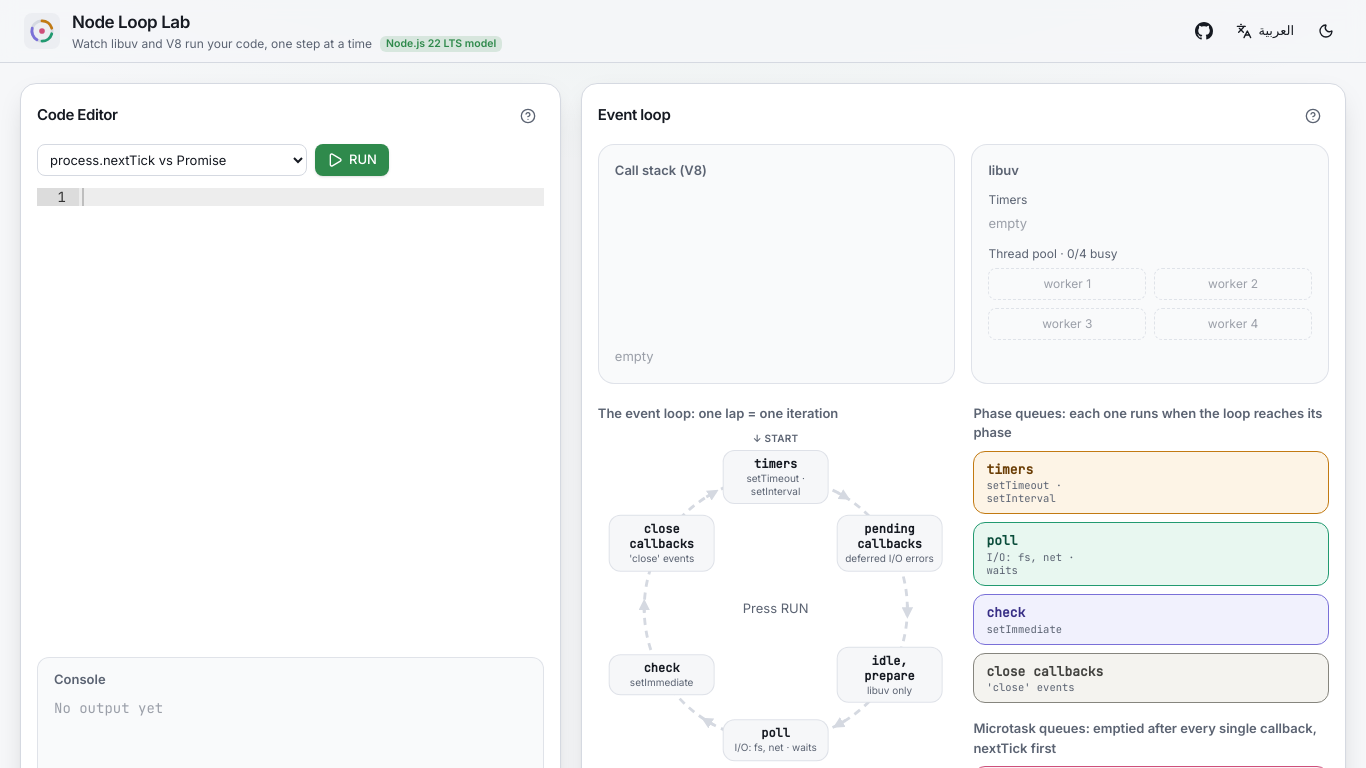
Test case: App › explains a panel only when asked
Click the button with test id "panel-about" at (528, 116), box [512,100,544,132]
(page scrolled)
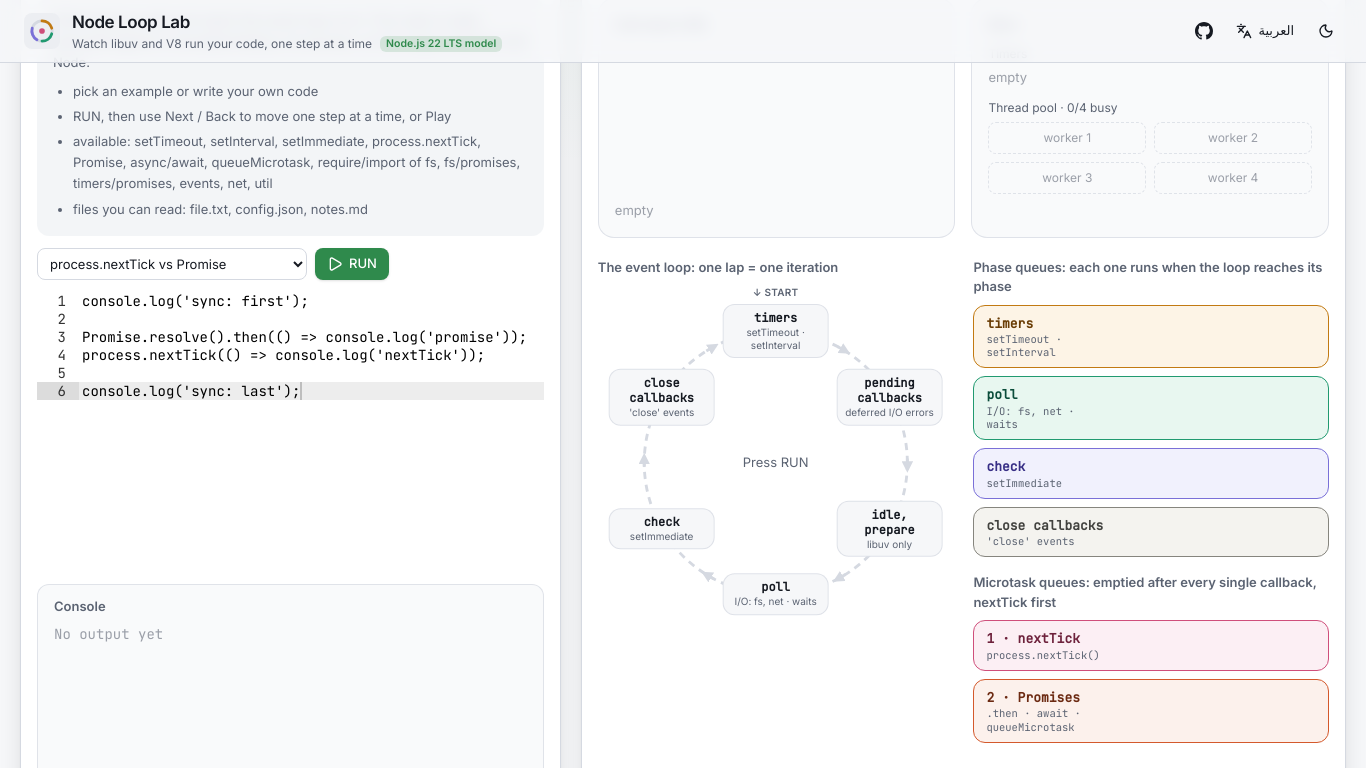
Now the element "Code Editor" shows "files you can read", box [73,200,368,216]
